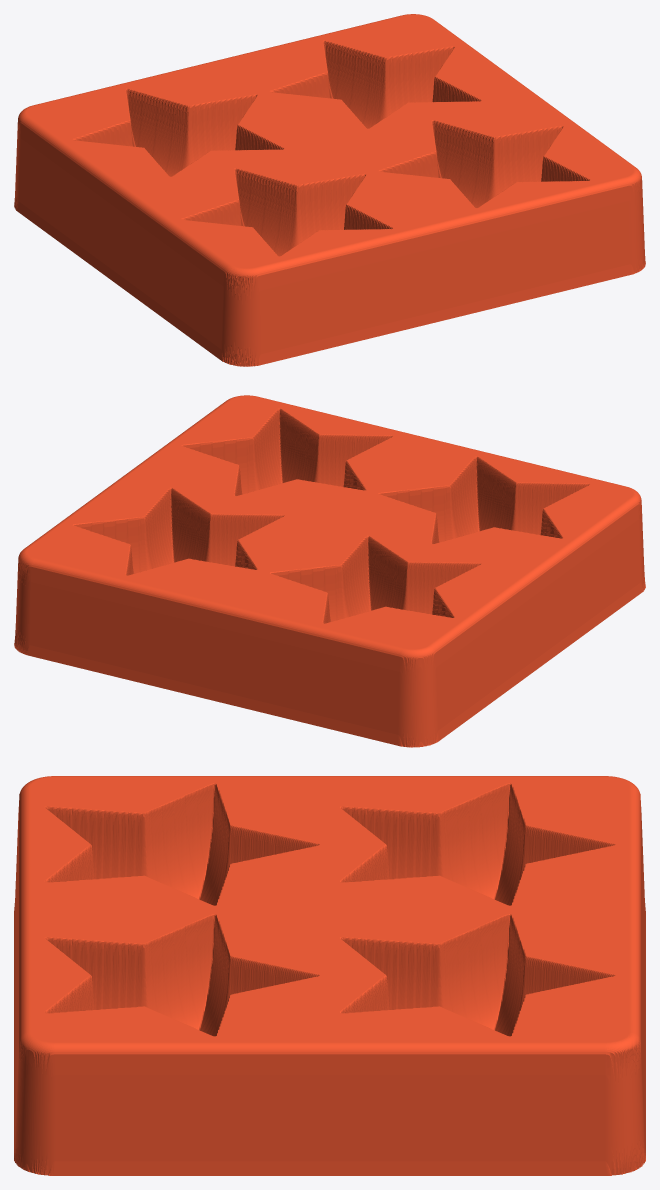
The model's file is mold.glb.
3 views of the same model, one above another, from view 1: azimuth 30°, elevation 25°; view 2: azimuth 150°, elevation 25°; view 3: azimuth 270°, elevation 25° (orthographic). The views are drawn at different scales.
Parts seen in each view (by area): view 1: geometry_0; view 2: geometry_0; view 3: geometry_0.
Boxes of the visible parts, <box> form: geometry_0: <box>14,14,645,366</box>; geometry_0: <box>14,395,645,747</box>; geometry_0: <box>14,776,645,1175</box>.
Bounding box in the file's own units: 0.1466 × 0.031 × 0.1403.
